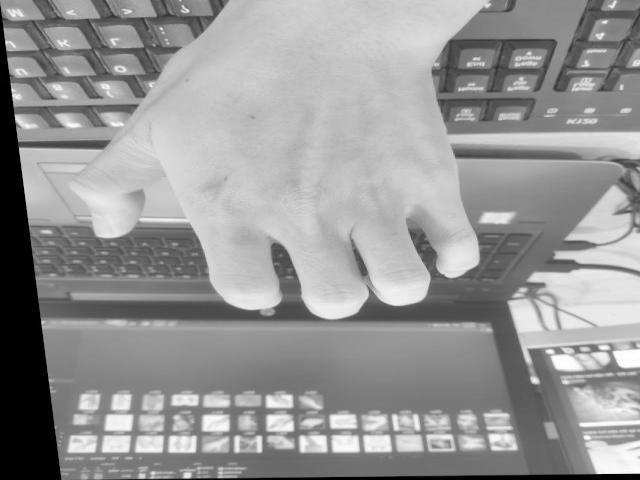not-gloved: (66, 0, 503, 320)
